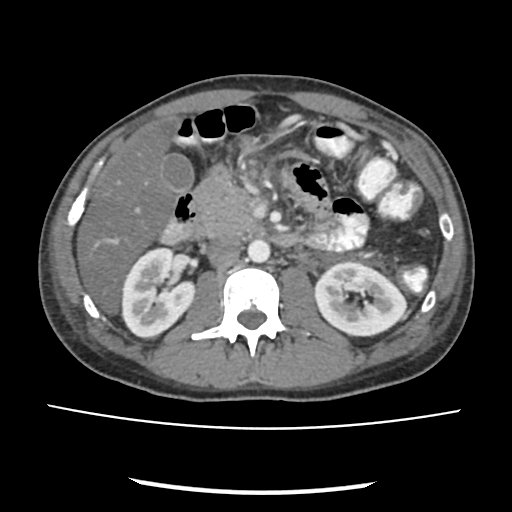aorta: (247, 238, 271, 263)
